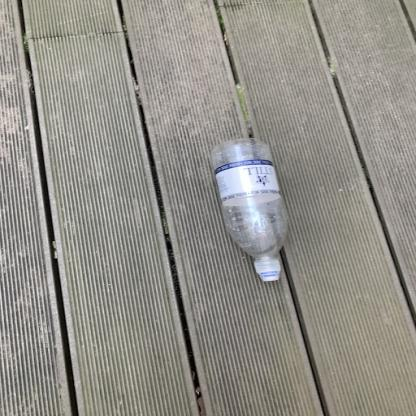trash: (210, 140, 294, 285)
